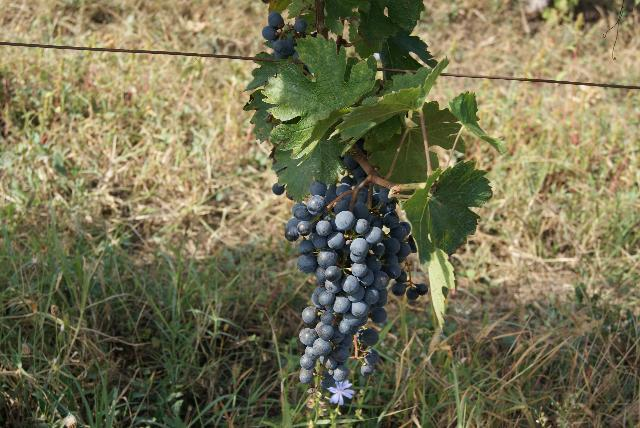grapes: (285, 181, 404, 389)
